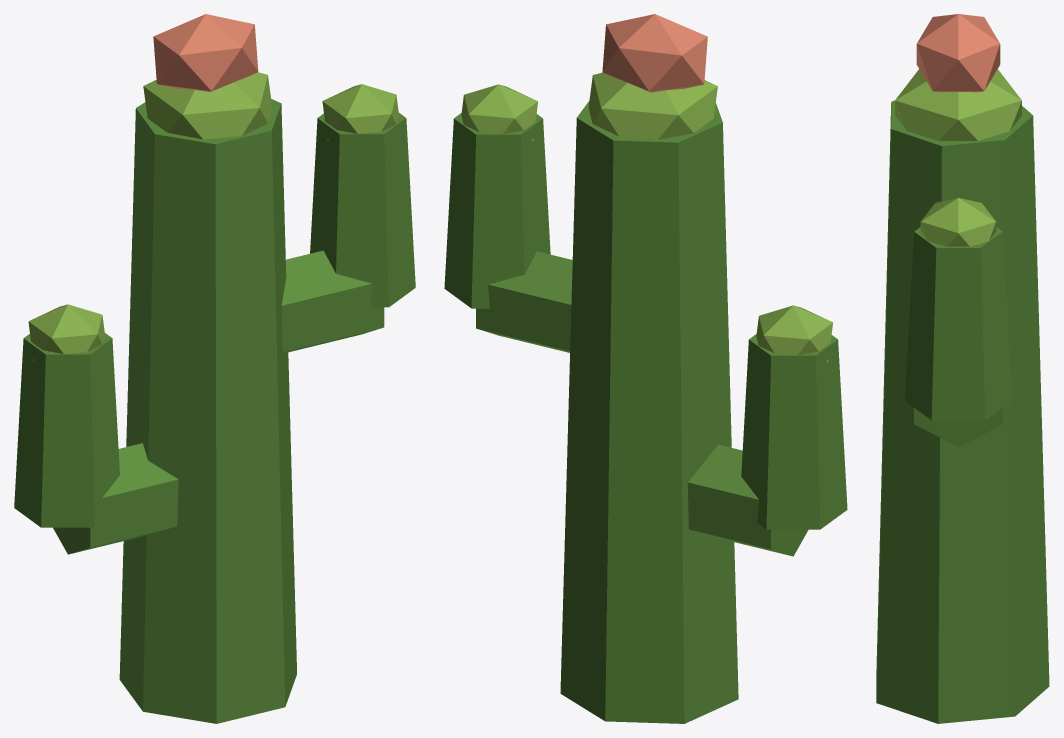
File: cactus.glb
3 renders of one model, left to right at view 1: azimuth 30°, elevation 25°; view 2: azimuth 150°, elevation 25°; view 3: azimuth 270°, elevation 25°, orthographic.
Parts seen in each view (by area): view 1: cactus; view 2: cactus; view 3: cactus.
Part boxes in pixels (x1,y1,x2,y2): cactus: [14, 14, 415, 723]; cactus: [444, 14, 847, 723]; cactus: [876, 14, 1049, 723].
Bounding box in the file's own units: 0.1848 × 0.317 × 0.0741.
